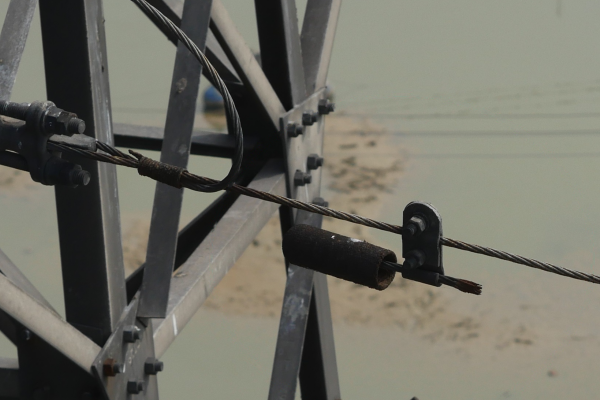damper_defect: (272, 196, 493, 304)
